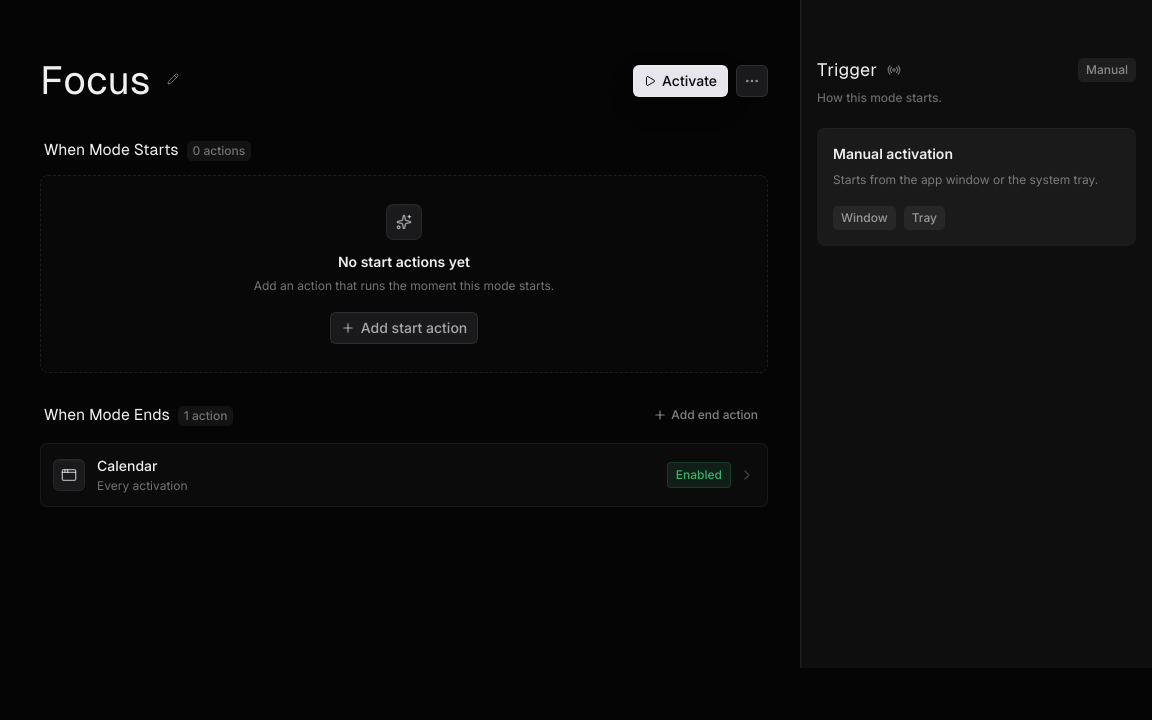
Test: ModeDetailPage › warns before saving an app that already opens in the opposite phase
This screenshot has width=1152, height=720.
Click the button with aria-label "add your first start action".
click(404, 328)  # box [330, 312, 478, 344]
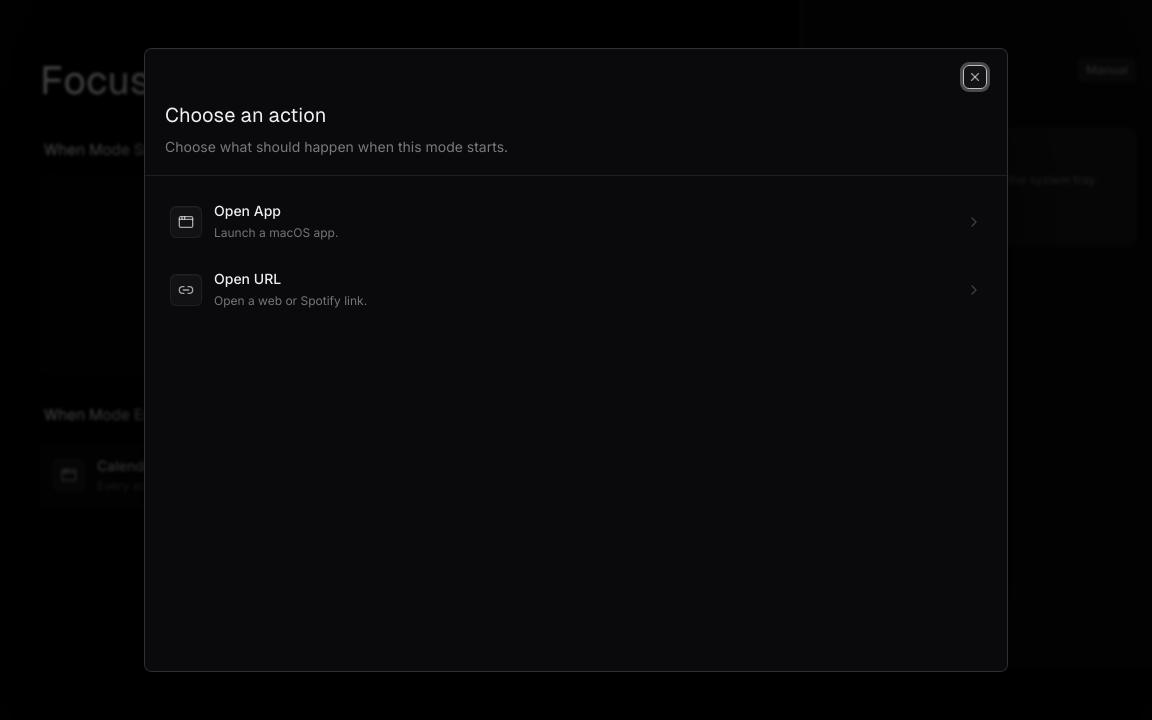
Click the button "Open App Launch a macOS app.".
click(186, 222)  # box [157, 188, 995, 256]
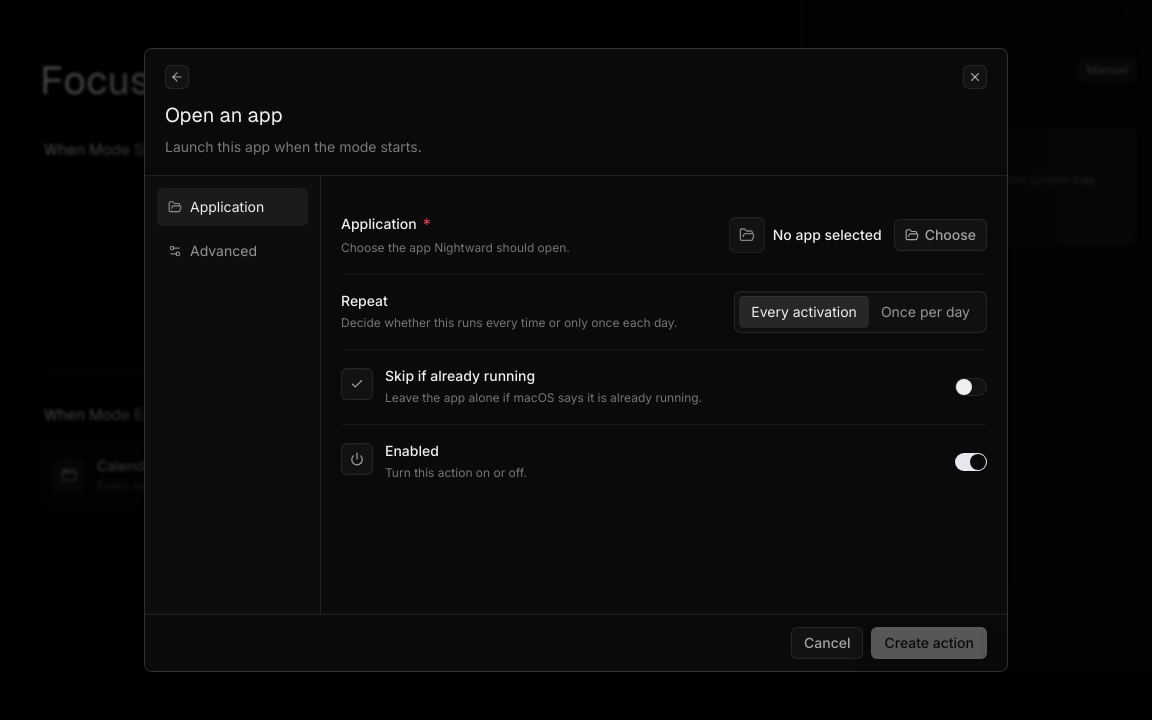
Click the button "Choose".
click(940, 235)  # box [894, 219, 987, 251]
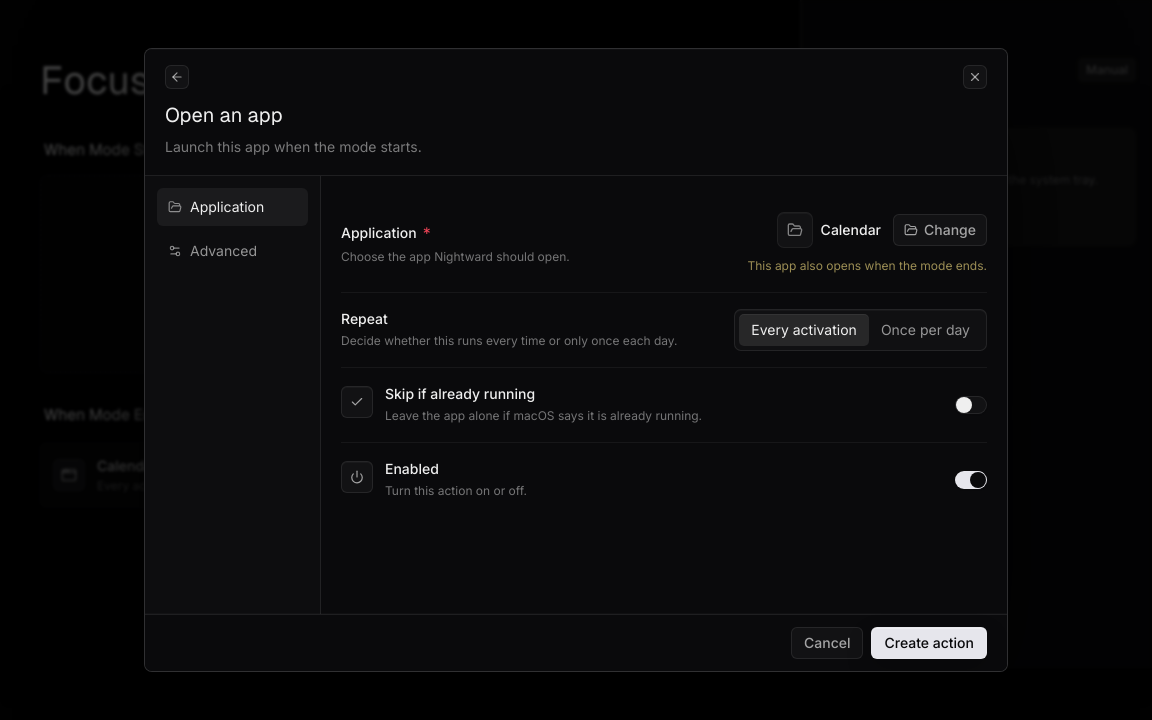
Result: the text "This app also opens when the mode ends." is shown at [747, 256, 987, 276]
Result: the button "Create action" is enabled at [872, 627, 987, 659]
